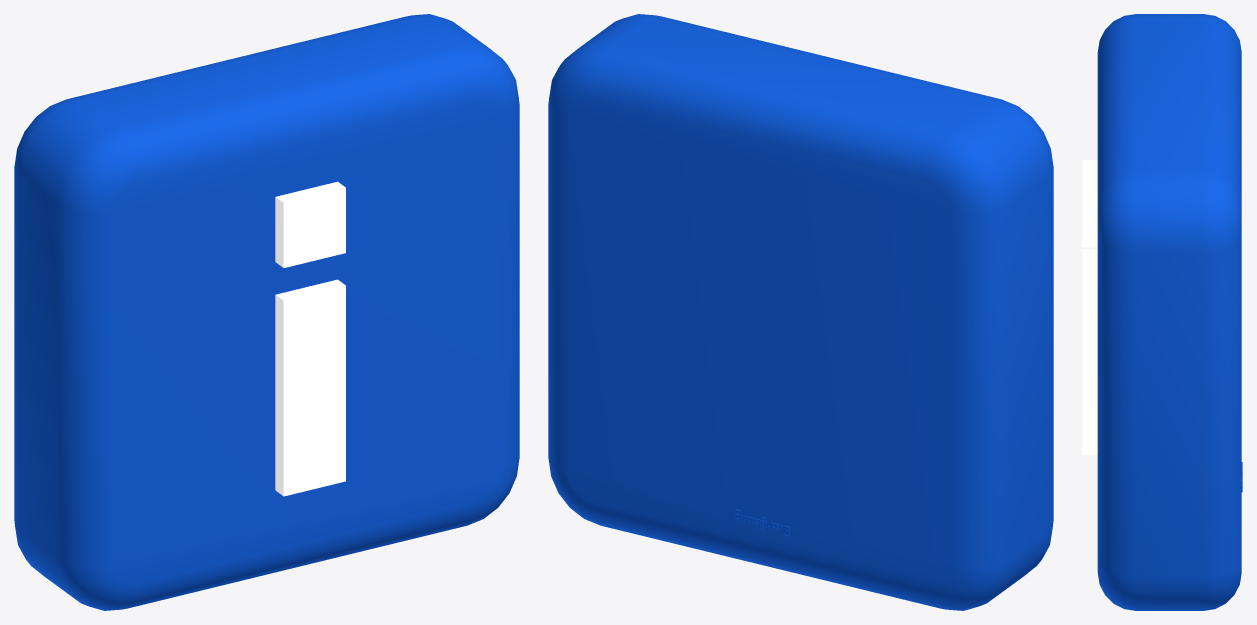
The model's file is information.gltf.
3 renders of one model, left to right at view 1: azimuth 30°, elevation 25°; view 2: azimuth 150°, elevation 25°; view 3: azimuth 270°, elevation 25°, orthographic. The views are drawn at different scales.
Parts seen in each view (by area): view 1: Cube.6623; view 2: Cube.6623; view 3: Cube.6623.
Boxes of the visible parts, x1=… form: Cube.6623: x1=14, y1=14, x2=519, y2=610; Cube.6623: x1=548, y1=14, x2=1053, y2=610; Cube.6623: x1=1082, y1=14, x2=1242, y2=610.
Bounding box in the file's own units: 2.2 × 2.2 × 0.7337.
Materials: 1 (1 with a texture image).
